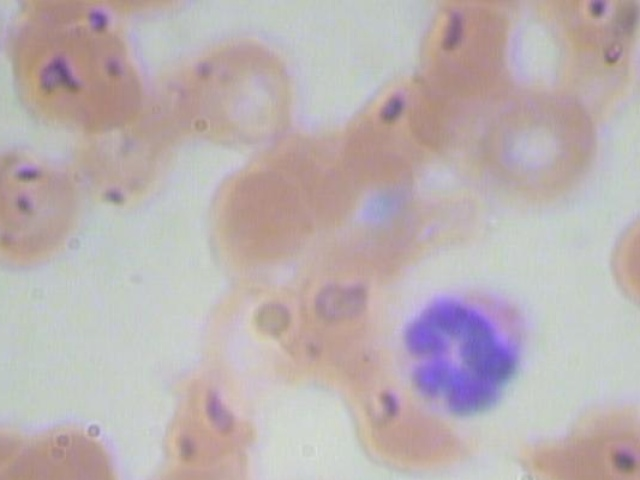RBC: (467, 82, 609, 208), (0, 15, 147, 135), (182, 31, 301, 153), (201, 164, 315, 282), (409, 0, 531, 110), (0, 145, 93, 267), (152, 363, 260, 461), (601, 196, 640, 318), (91, 0, 199, 21)
WBC: (389, 273, 543, 420)
